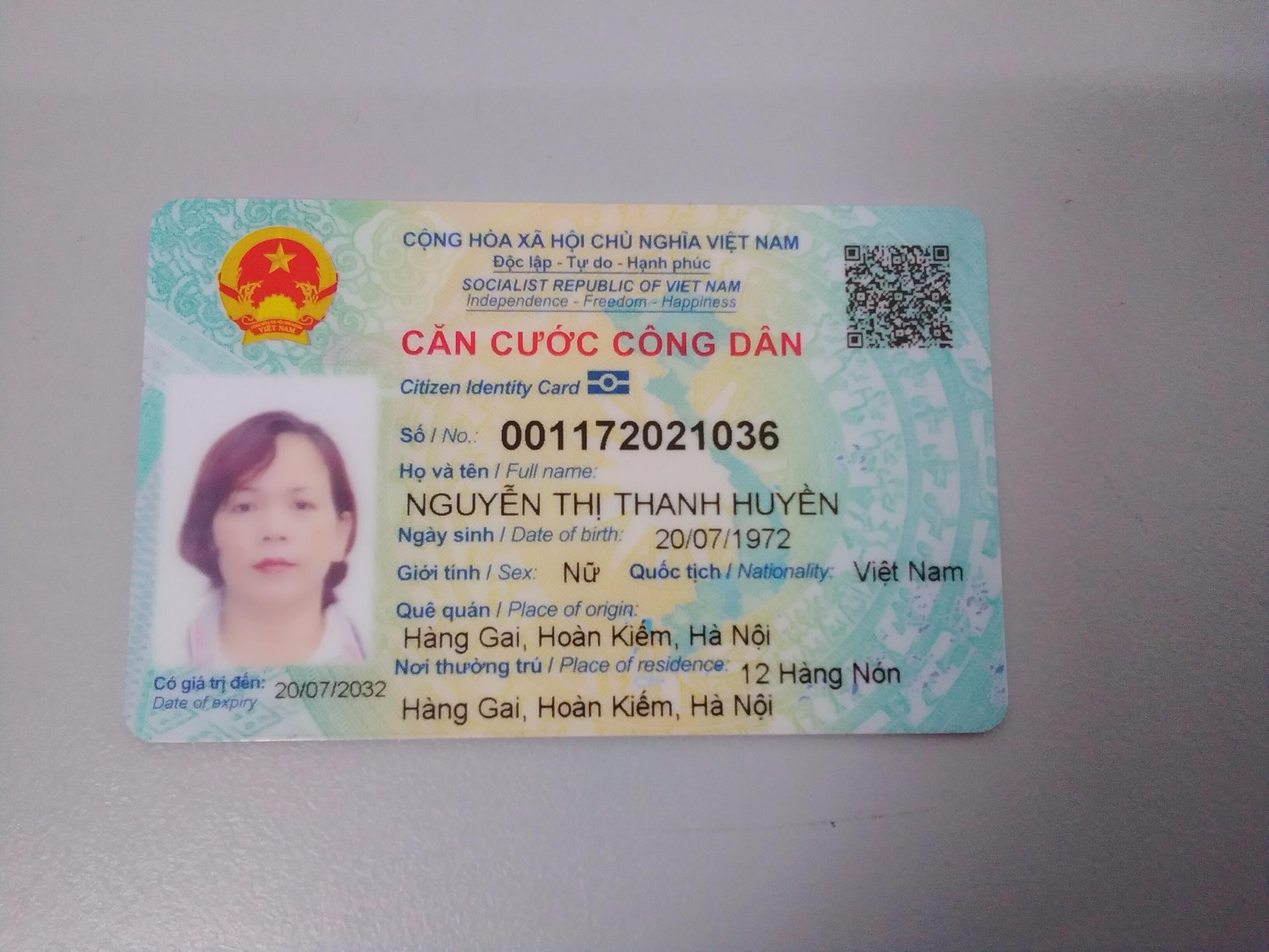ID: (489, 407, 780, 461)
birth: (648, 521, 794, 559)
name: (388, 484, 842, 521)
place: (392, 615, 788, 655)
residence: (393, 685, 783, 727), (724, 652, 912, 696)
